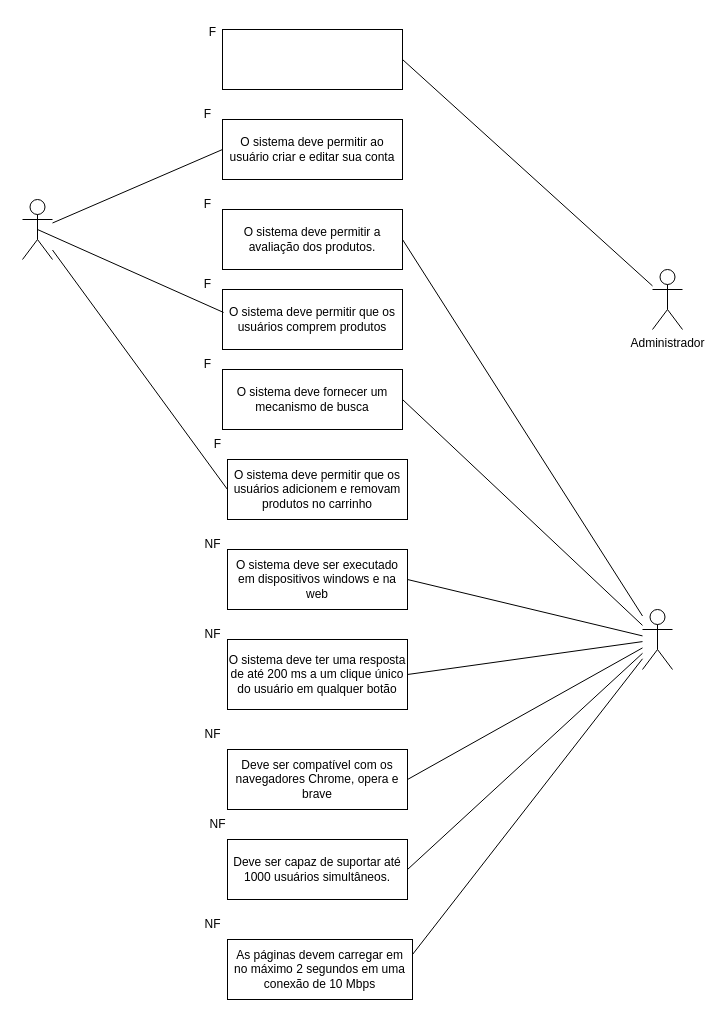
This 722x1017 diagram has some shape labels left out. Each missing label, with the centre of its shape:
"O sistema deve permitir o cadastro de produtos" goes at point (312, 59).
"Sistema" goes at point (657, 639).
"Usuário" goes at point (37, 229).
